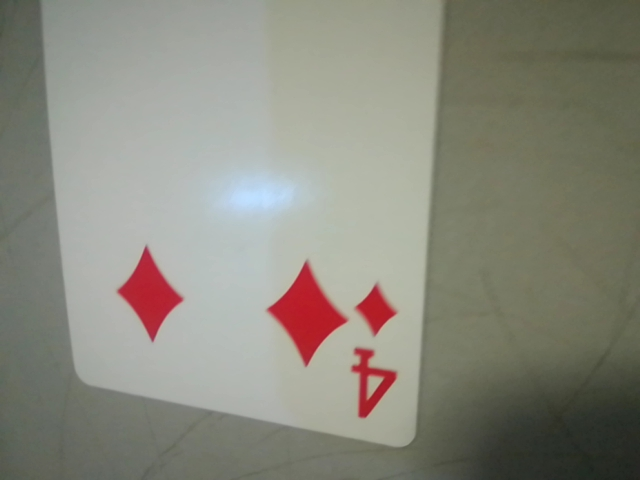fk 4: (339, 266, 413, 434)
